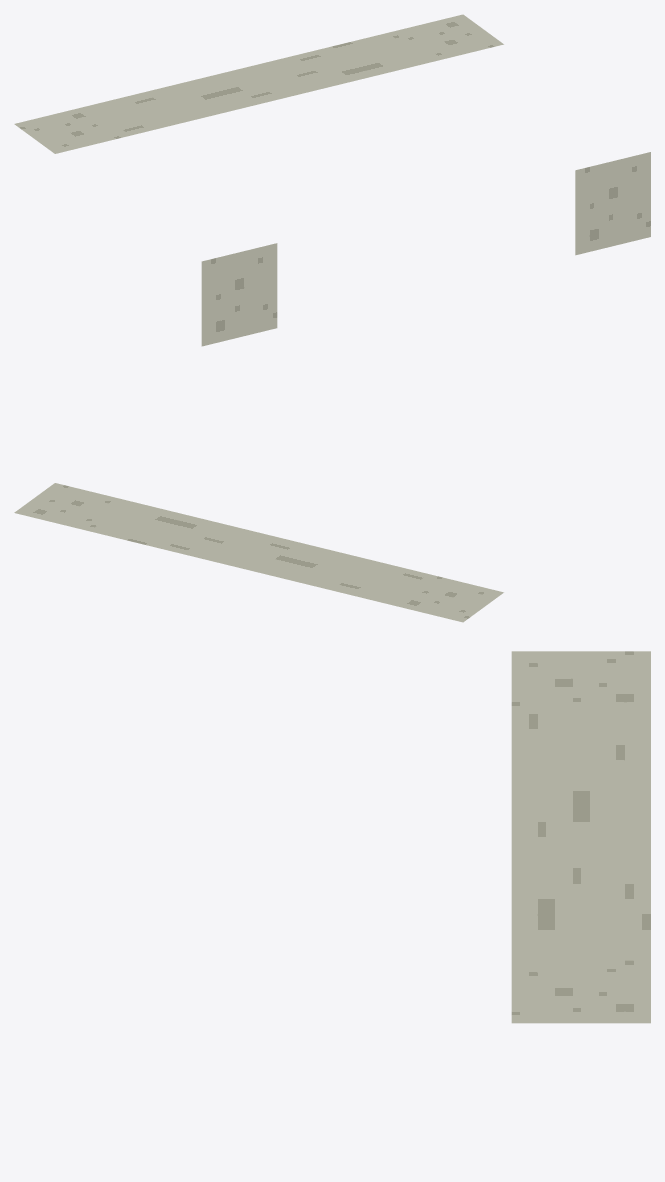
Rendered from hgss-ch7-annexe-charbon-murs-lateraux.glb.
3 renders of one model, top to bottom at view 1: azimuth 30°, elevation 25°; view 2: azimuth 150°, elevation 25°; view 3: azimuth 270°, elevation 25°, orthographic. The views are drawn at different scales.
Bounding box in the file's own units: 16.57 × 3 × 12.
Materials: 1 (1 with a texture image).
